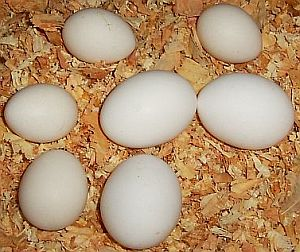Egg: (59, 5, 142, 68)
